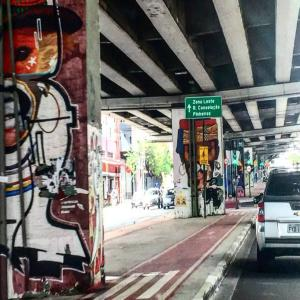Vehicle-registration-plate: (289, 224, 300, 236)
